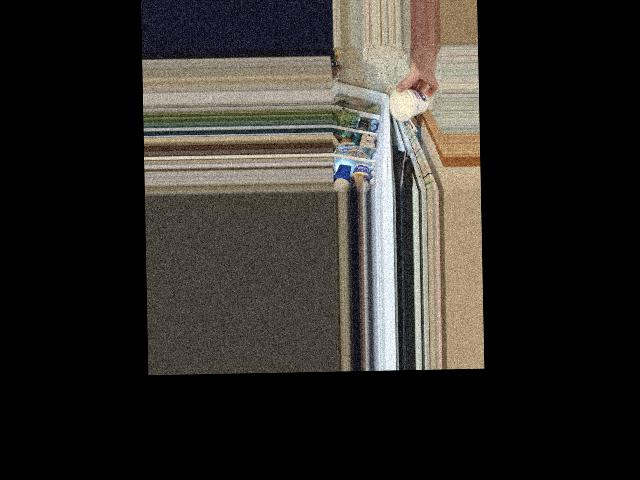cotage: (389, 87, 427, 118)
